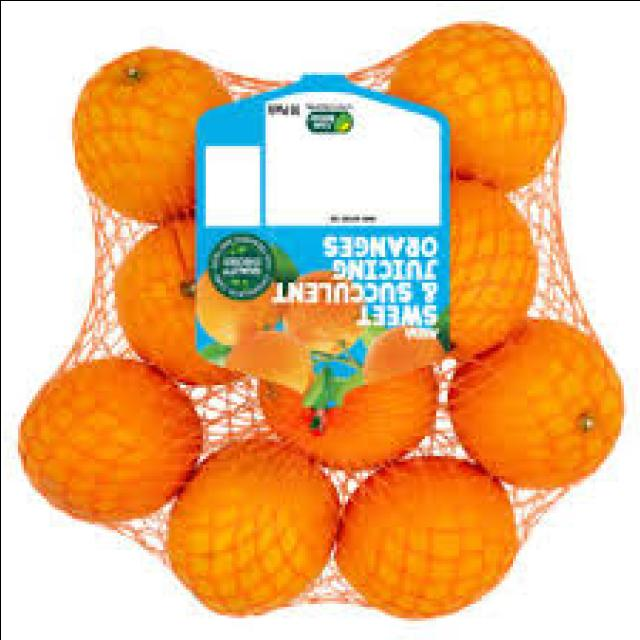orange: (169, 436, 336, 618), (451, 337, 625, 487)
